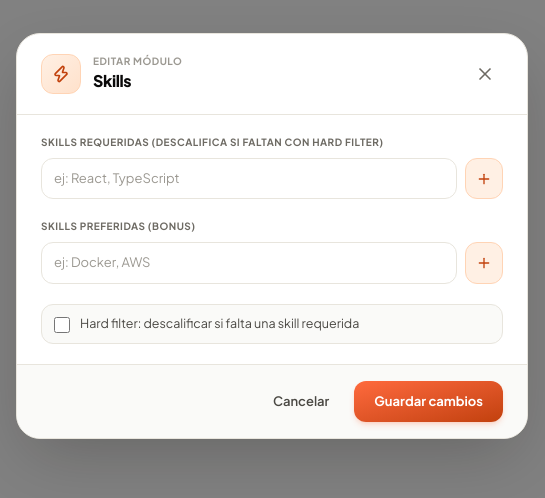
Test: ModuleEditModal › tipo SKILLS › agrega un tag al presionar Enter en el input
Type "Vue" into the field with placeholder "ej: React, TypeScript" at (249, 179), box top-left (41, 158), bottom-right (457, 199)
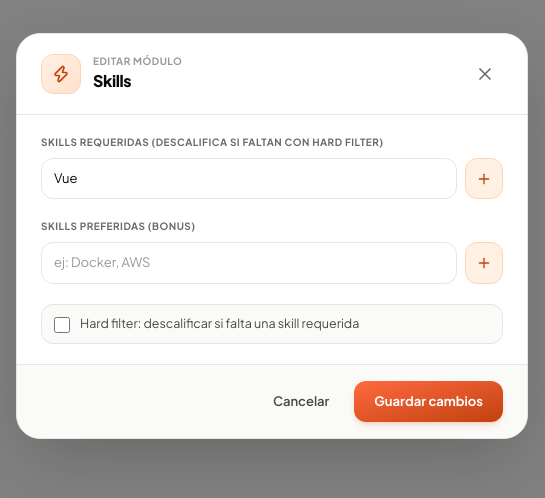
Press Enter in the field with placeholder "ej: React, TypeScript", box top-left (41, 158), bottom-right (457, 199)
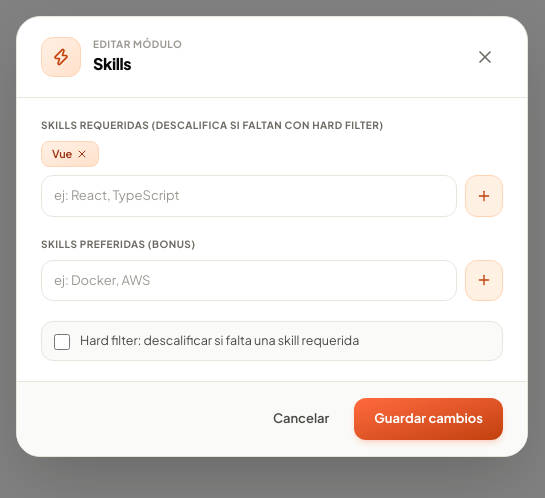
Now the text "Vue" is shown, box top-left (41, 140), bottom-right (99, 167)
